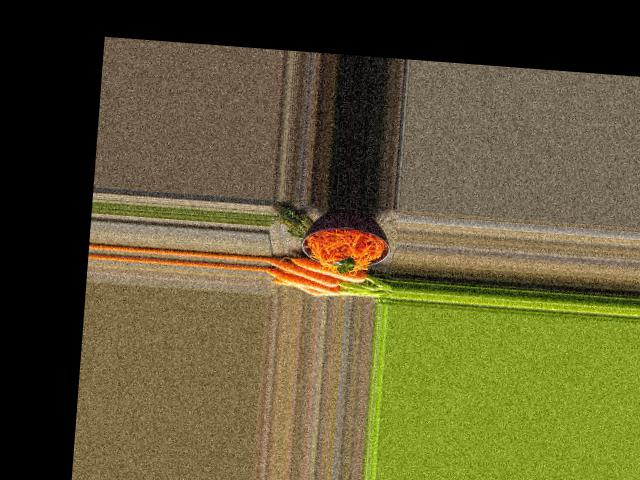carrot: (284, 256, 372, 284)
